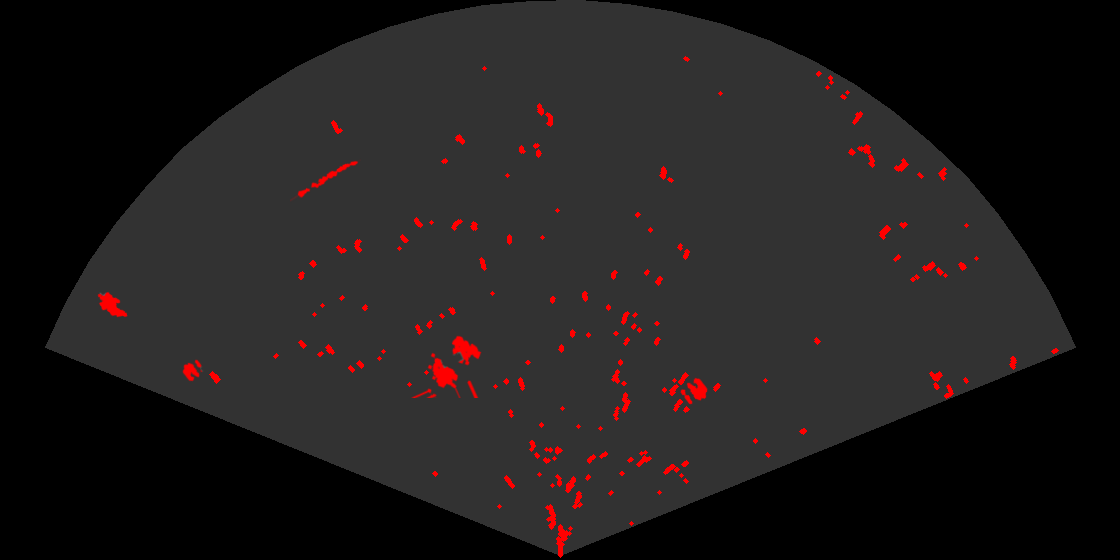AUV: (96, 290, 129, 319)
ball: (679, 376, 709, 406), (181, 358, 204, 383)
cage: (410, 334, 483, 398)
chain: (290, 158, 361, 203)
